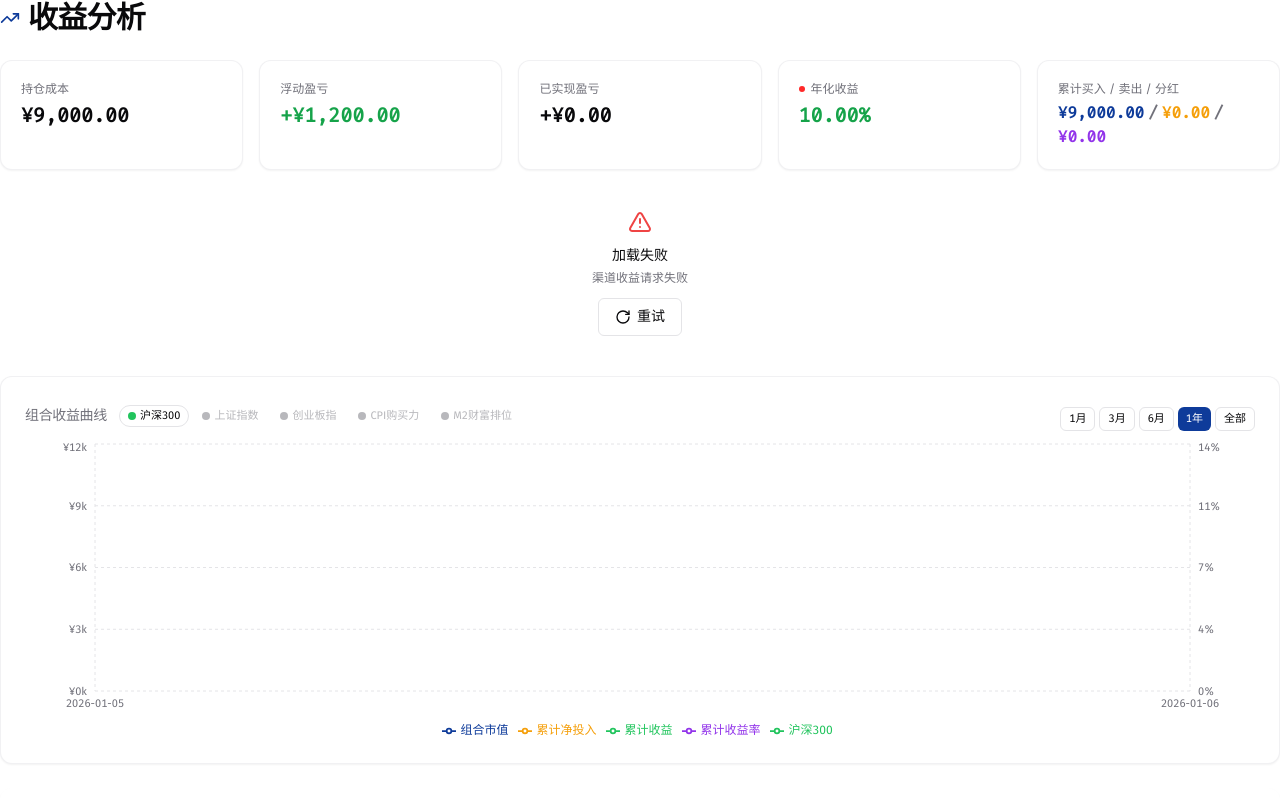
Test: Returns › 渠道收益失败时展示 ErrorState 而非隐藏区块，重试可恢复
This screenshot has width=1280, height=800.
Expected: the text "渠道收益请求失败" is shown, [592,270,688,286]
Expected: the text "收益波动" is not shown
Click the button "重试": (640, 317) [598,298,682,336]
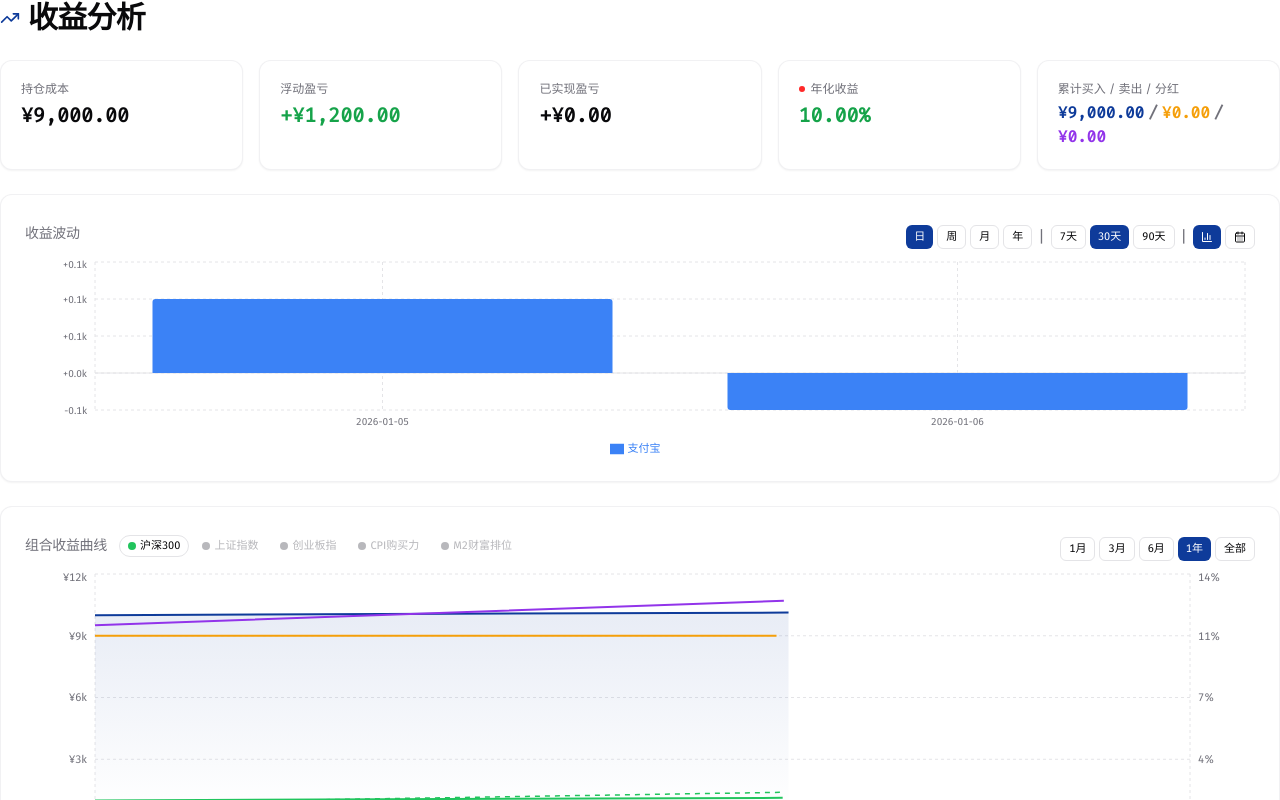
Expected: the text "收益波动" is shown, [25,224,80,244]
Expected: the text "渠道收益请求失败" is gone
